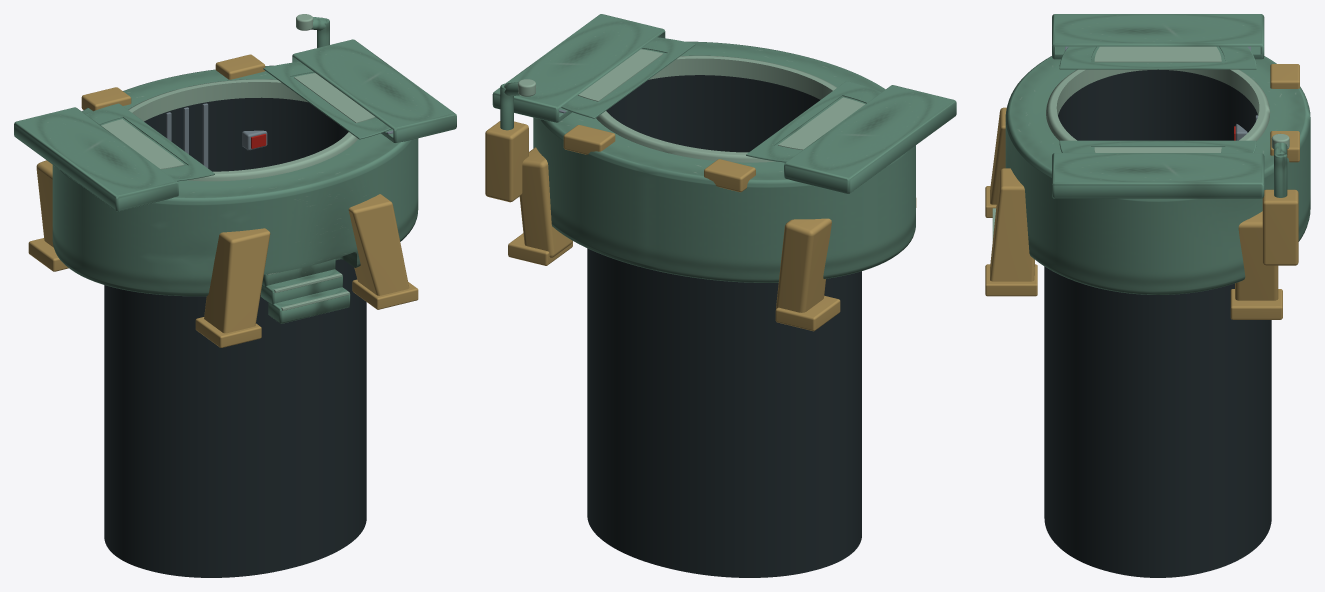
File: descriptor-11.glb
3 views of the same model, side by side, from view 1: azimuth 30°, elevation 25°; view 2: azimuth 150°, elevation 25°; view 3: azimuth 270°, elevation 25° (orthographic). The views are drawn at different scales.
Parts seen in each view (by area): view 1: RI10 shaft wall below ground, RI10 fixed oval body, RI10 enclosed side cover cassette, RI10 enclosed side cover cassette.001, RI10 front splayed brass buttress, RI10 green aperture coaming, RI10 front splayed brass buttress.001, RI10 right cover shell inner segment, RI10 left cover shell inner segment, RI10 front access step 0, RI10 recessed green cover field inner segment, RI10 front access step 1 (+8 smaller); view 2: RI10 shaft wall below ground, RI10 fixed oval body, RI10 enclosed side cover cassette, RI10 enclosed side cover cassette.001, RI10 green aperture coaming, RI10 rear brass load-bearing buttress, RI10 rear brass load-bearing buttress.001, RI10 right equipment mast foundation, RI10 right cover shell inner segment, RI10 left cover shell inner segment, RI10 recessed green cover field inner segment, RI10 recessed green cover field inner segment.001 (+4 smaller); view 3: RI10 shaft wall below ground, RI10 fixed oval body, RI10 enclosed side cover cassette.001, RI10 enclosed side cover cassette, RI10 front splayed brass buttress.001, RI10 green aperture coaming, RI10 right equipment mast foundation, RI10 left cover shell inner segment, RI10 rear brass load-bearing buttress.001, RI10 recessed green cover field inner segment, RI10 right cover shell inner segment, RI10 rear brass foot flange.001 (+6 smaller).
Part boxes in pixels (bbox=[...]): RI10 shaft wall below ground: bbox=[104, 97, 366, 577]; RI10 fixed oval body: bbox=[52, 65, 418, 296]; RI10 enclosed side cover cassette: bbox=[14, 107, 178, 211]; RI10 enclosed side cover cassette.001: bbox=[292, 39, 456, 142]; RI10 front splayed brass buttress: bbox=[204, 228, 270, 333]; RI10 green aperture coaming: bbox=[128, 79, 357, 181]; RI10 front splayed brass buttress.001: bbox=[348, 194, 409, 295]; RI10 right cover shell inner segment: bbox=[263, 61, 391, 139]; RI10 left cover shell inner segment: bbox=[86, 103, 214, 181]; RI10 front access step 0: bbox=[268, 287, 350, 323]; RI10 recessed green cover field inner segment: bbox=[101, 119, 184, 169]; RI10 front access step 1: bbox=[261, 269, 342, 304]; RI10 shaft wall below ground: bbox=[587, 75, 861, 577]; RI10 fixed oval body: bbox=[533, 41, 915, 282]; RI10 enclosed side cover cassette: bbox=[784, 85, 956, 193]; RI10 enclosed side cover cassette.001: bbox=[492, 14, 665, 122]; RI10 green aperture coaming: bbox=[596, 55, 836, 162]; RI10 rear brass load-bearing buttress: bbox=[776, 218, 831, 312]; RI10 rear brass load-bearing buttress.001: bbox=[519, 147, 572, 257]; RI10 right equipment mast foundation: bbox=[485, 121, 528, 202]; RI10 right cover shell inner segment: bbox=[561, 37, 695, 118]; RI10 left cover shell inner segment: bbox=[746, 81, 881, 162]; RI10 recessed green cover field inner segment: bbox=[778, 97, 864, 149]; RI10 recessed green cover field inner segment.001: bbox=[578, 49, 663, 101]; RI10 shaft wall below ground: bbox=[1044, 69, 1271, 577]; RI10 fixed oval body: bbox=[1005, 56, 1310, 294]; RI10 enclosed side cover cassette.001: bbox=[1052, 153, 1264, 198]; RI10 enclosed side cover cassette: bbox=[1052, 14, 1264, 59]; RI10 front splayed brass buttress.001: bbox=[990, 168, 1034, 281]; RI10 green aperture coaming: bbox=[1046, 69, 1270, 140]; RI10 right equipment mast foundation: bbox=[1262, 189, 1298, 265]; RI10 left cover shell inner segment: bbox=[1059, 46, 1256, 69]; RI10 rear brass load-bearing buttress.001: bbox=[1235, 211, 1278, 300]; RI10 recessed green cover field inner segment: bbox=[1094, 46, 1221, 62]; RI10 right cover shell inner segment: bbox=[1059, 140, 1256, 152]; RI10 rear brass foot flange.001: bbox=[1230, 289, 1282, 319].
Bounding box in the file's own units: 2.7 × 3.31 × 2.17.
7 materials, 2 textured.
